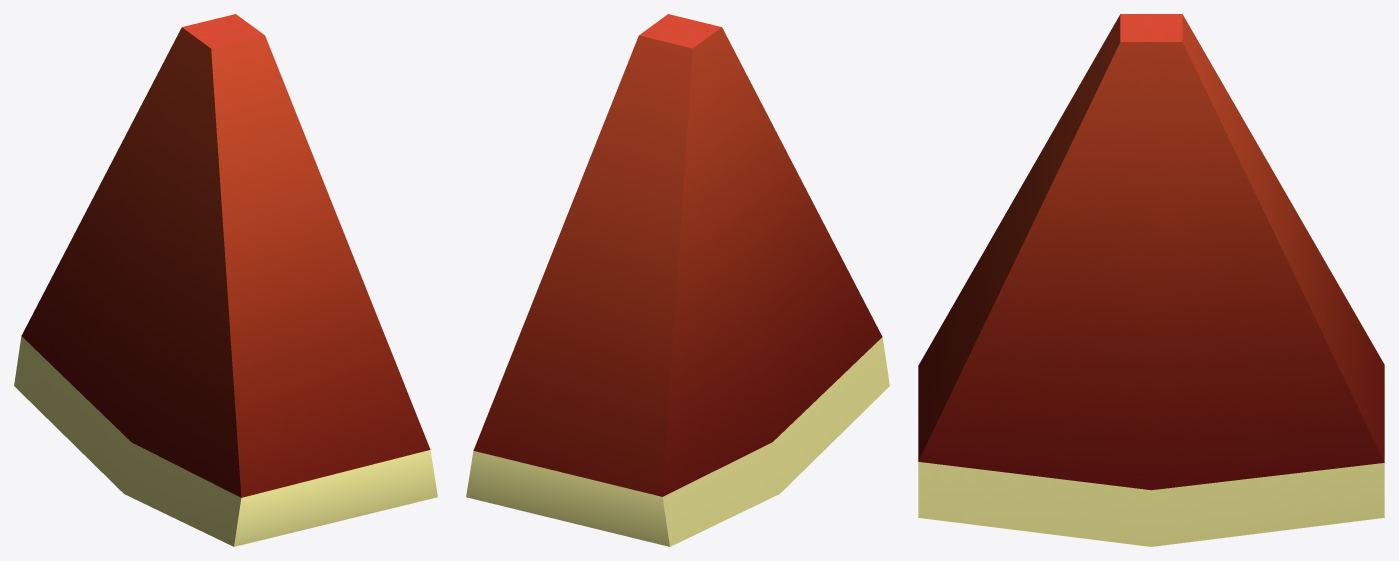
Rendered from melon_slice_small.fbx.
The picture shows the model from 3 angles, left to right: view 1: azimuth 30°, elevation 25°; view 2: azimuth 150°, elevation 25°; view 3: azimuth 270°, elevation 25°; orthographic projection. The views are drawn at different scales.
Visible parts, largest first — view 1: melon_slice_small; view 2: melon_slice_small; view 3: melon_slice_small.
Boxes of the visible parts, x1=… form: melon_slice_small: x1=14, y1=14, x2=437, y2=546; melon_slice_small: x1=466, y1=14, x2=889, y2=546; melon_slice_small: x1=918, y1=14, x2=1384, y2=546.
Bounding box in the file's own units: 10.25 × 21.05 × 19.14.
